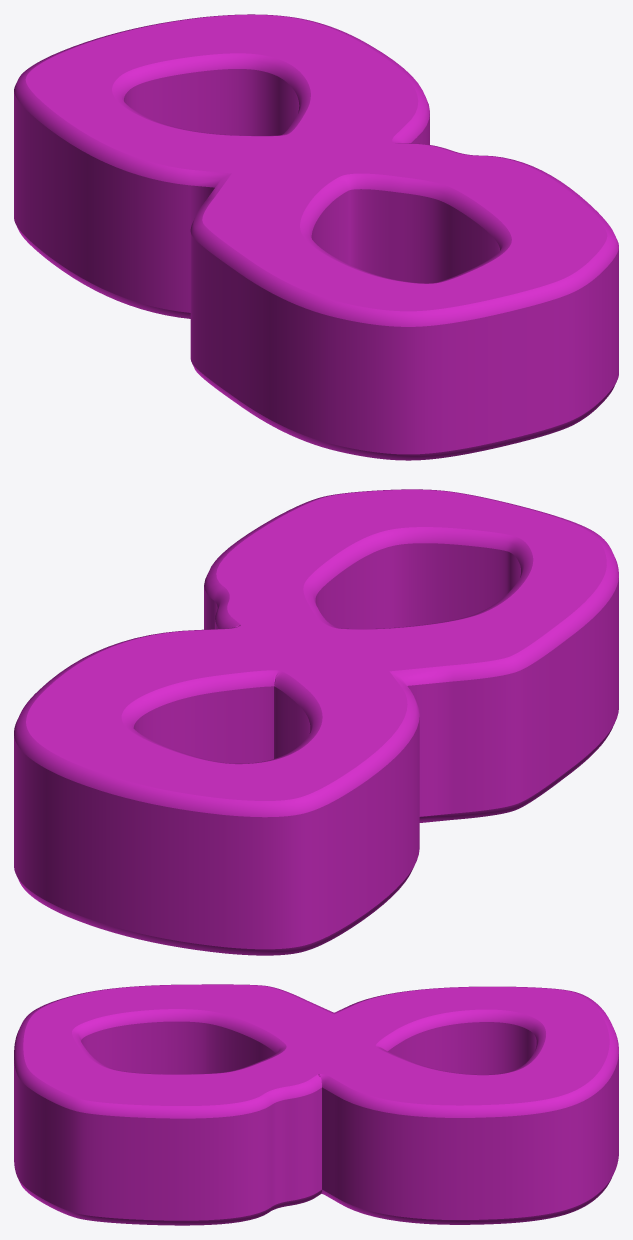
The model's file is Bubble_Number8.fbx.
3 views of the same model, one above another, from view 1: azimuth 30°, elevation 25°; view 2: azimuth 150°, elevation 25°; view 3: azimuth 270°, elevation 25° (orthographic). The views are drawn at different scales.
Visible parts, largest first — view 1: BubbleNumber_8; view 2: BubbleNumber_8; view 3: BubbleNumber_8.
Part boxes in pixels (x1=…): BubbleNumber_8: x1=14, y1=14, x2=618, y2=460; BubbleNumber_8: x1=14, y1=489, x2=618, y2=955; BubbleNumber_8: x1=14, y1=984, x2=618, y2=1225.
Bounding box in the file's own units: 0.3261 × 0.14 × 0.6445.
